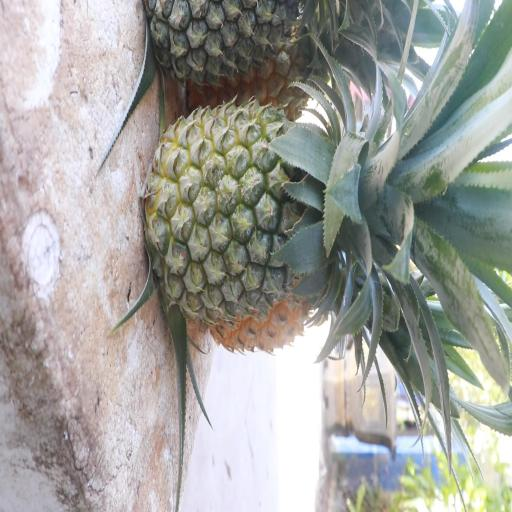------------------------------: (152, 105, 346, 329)
